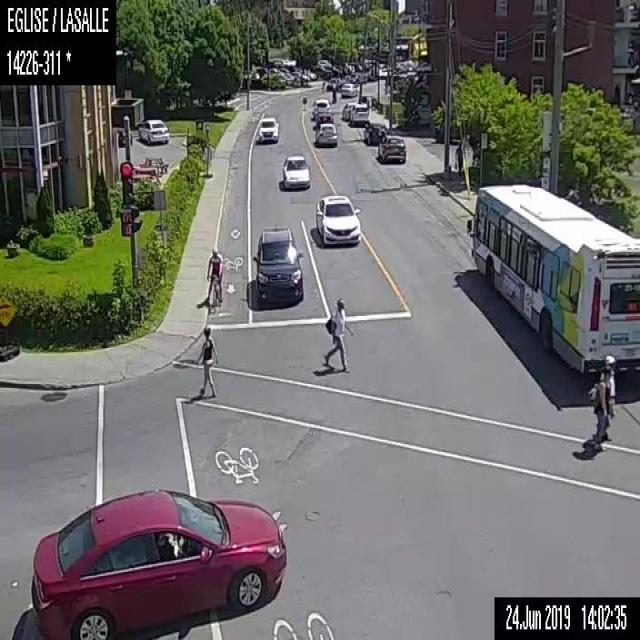bus: (464, 181, 639, 375)
cyclist: (201, 242, 223, 306)
pedestrian: (322, 293, 354, 372), (584, 364, 608, 453), (193, 323, 220, 396), (602, 353, 616, 445), (453, 138, 462, 182), (331, 84, 336, 102)
vehicle: (28, 485, 287, 639), (250, 224, 305, 305), (313, 190, 361, 247), (279, 150, 311, 190), (135, 117, 170, 147), (377, 135, 406, 164), (256, 113, 279, 144), (362, 120, 386, 144), (314, 122, 336, 146), (348, 103, 369, 126), (312, 98, 330, 120), (314, 107, 334, 126), (340, 101, 354, 120), (340, 82, 357, 96), (326, 75, 342, 89)
